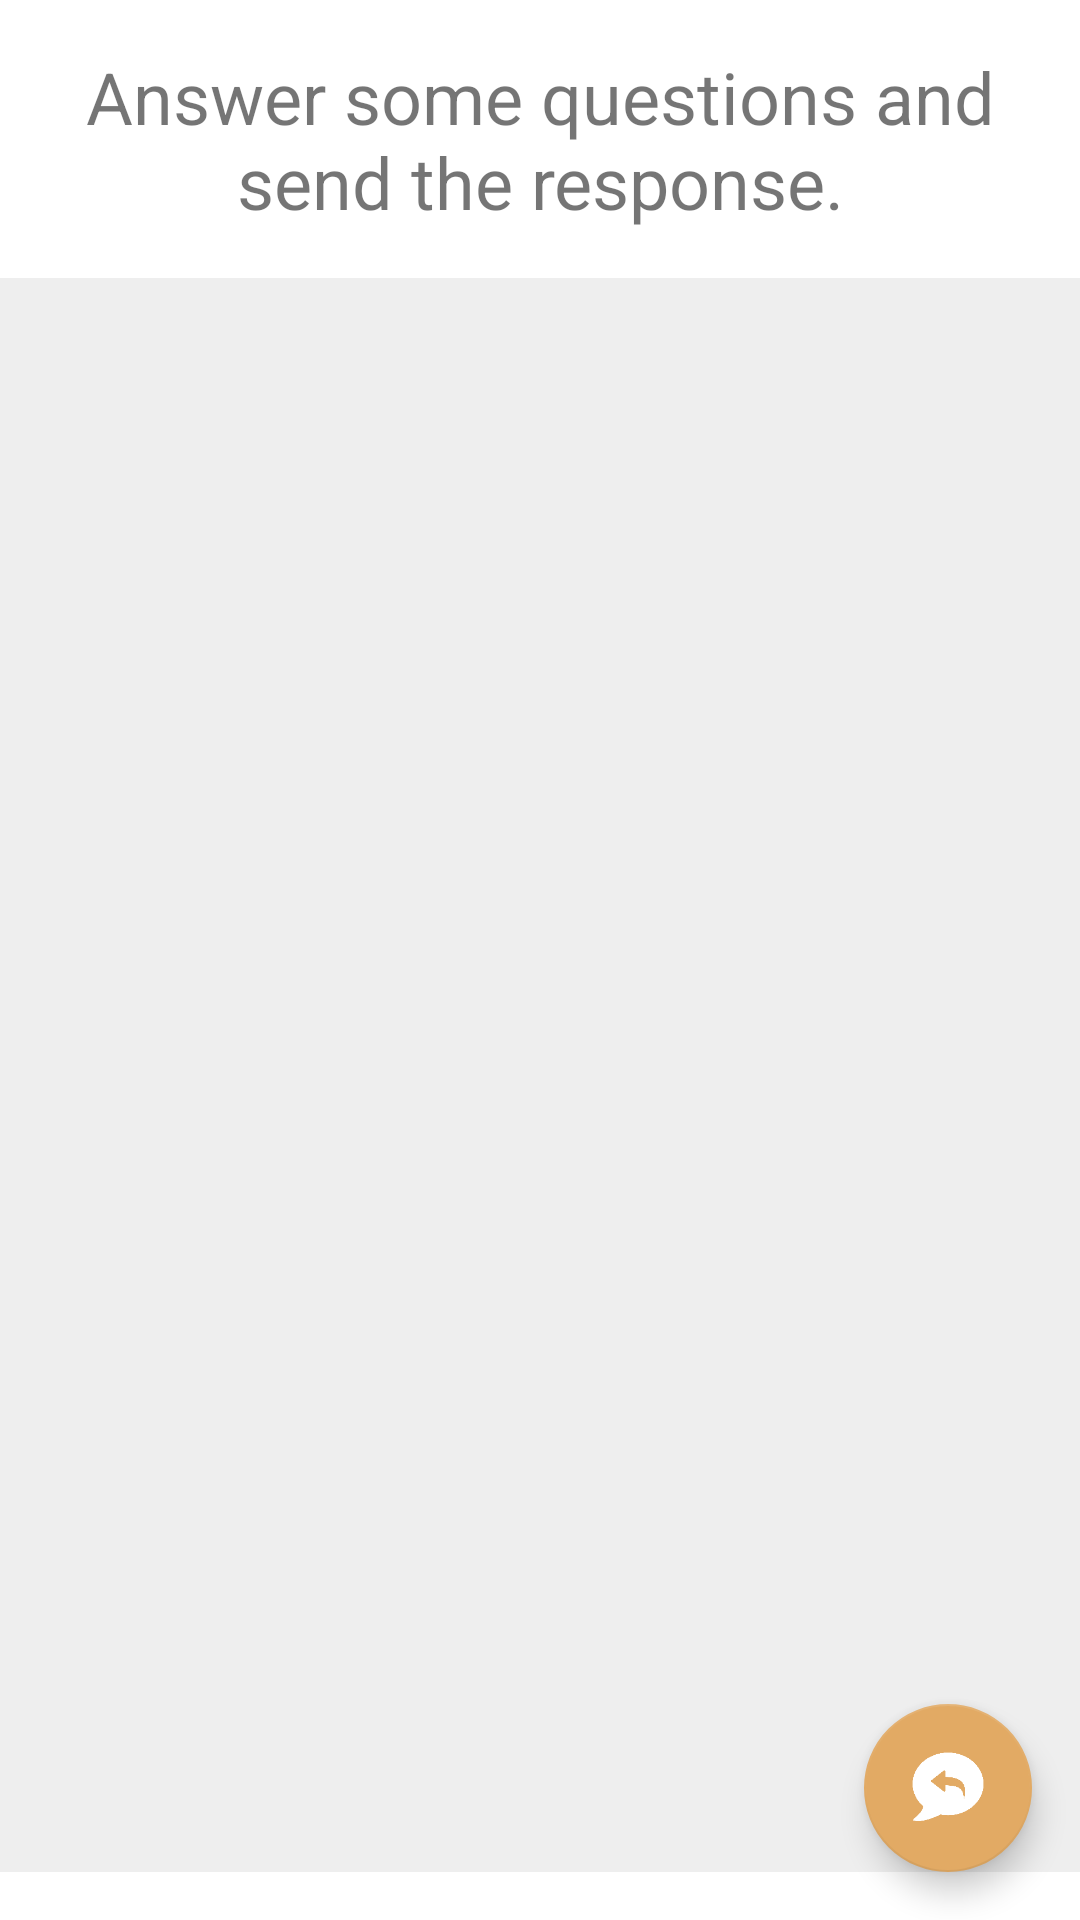

Locate icon controls on the screen. Image size 1080 × 1920, boxes as Rect(x1, y1, x2, y2).
fab respond: Rect(864, 1704, 1032, 1872)
